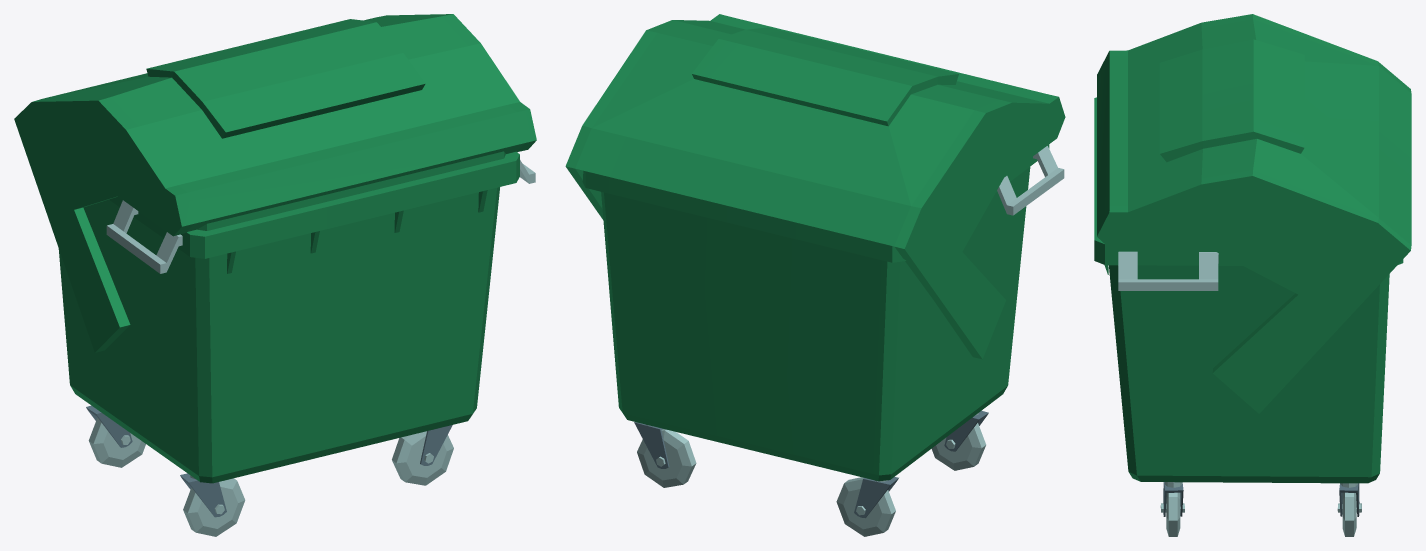
The model's file is Prop_GarbargeCollector_Big.fbx.
3 renders of one model, left to right at view 1: azimuth 30°, elevation 25°; view 2: azimuth 150°, elevation 25°; view 3: azimuth 270°, elevation 25°, orthographic. The views are drawn at different scales.
Visible parts, largest first — view 1: Prop_GarbargeCollector_Big; view 2: Prop_GarbargeCollector_Big; view 3: Prop_GarbargeCollector_Big.
Part boxes in pixels (bbox=[...]): Prop_GarbargeCollector_Big: bbox=[14, 14, 536, 536]; Prop_GarbargeCollector_Big: bbox=[565, 14, 1065, 536]; Prop_GarbargeCollector_Big: bbox=[1094, 14, 1411, 536].
Size of the model in its own units: 111 by 141 by 155.
